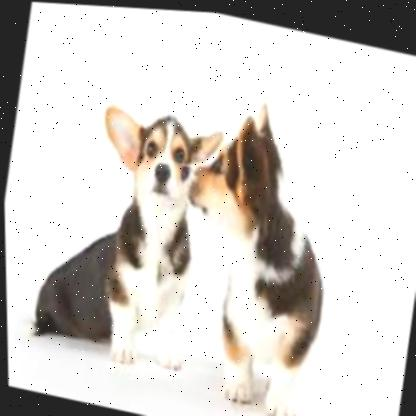dog: (154, 84, 355, 416), (22, 88, 232, 383)
